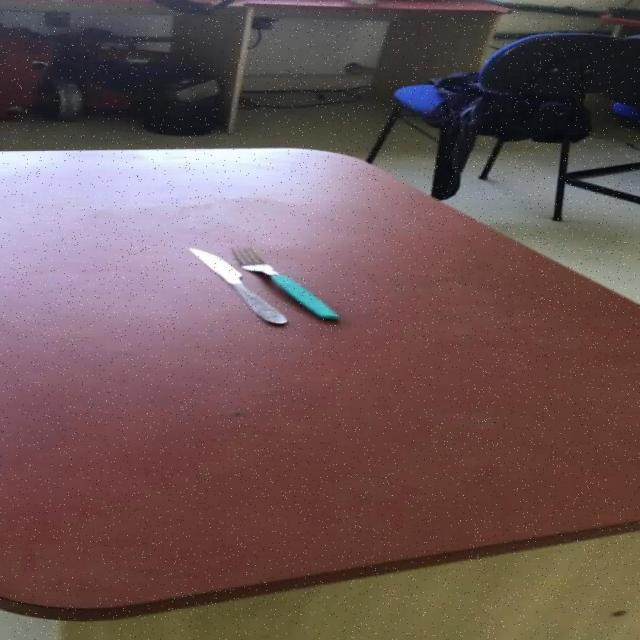Fork: (232, 246, 342, 320)
Knife: (189, 244, 343, 326), (188, 247, 290, 324)
